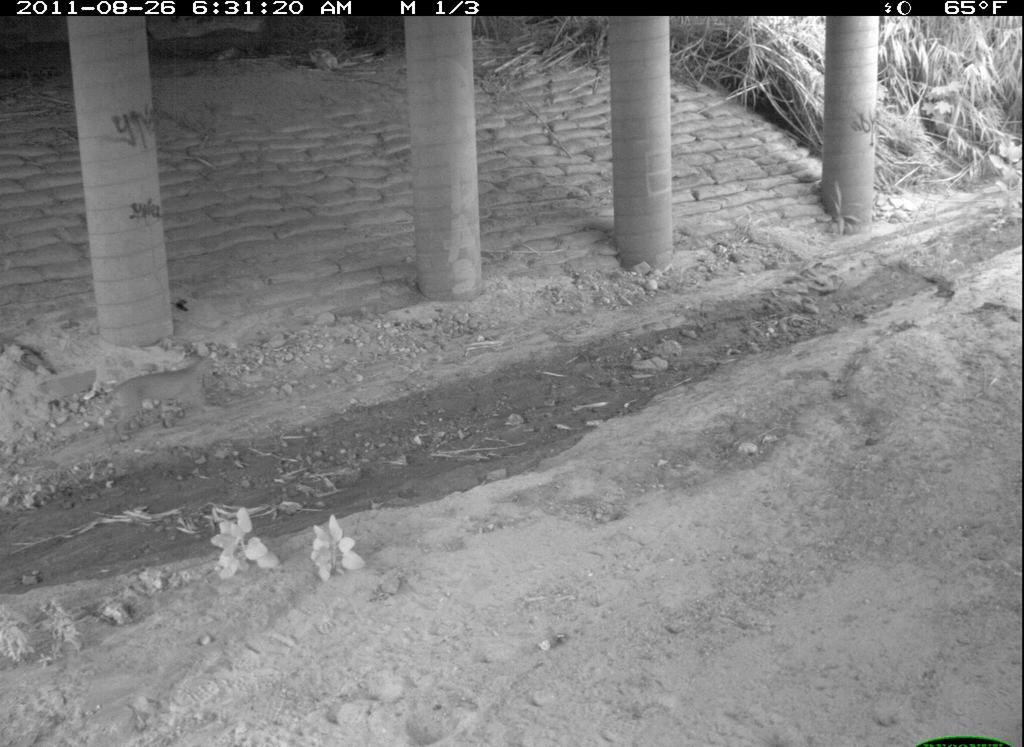bobcat: (193, 697, 438, 747)
